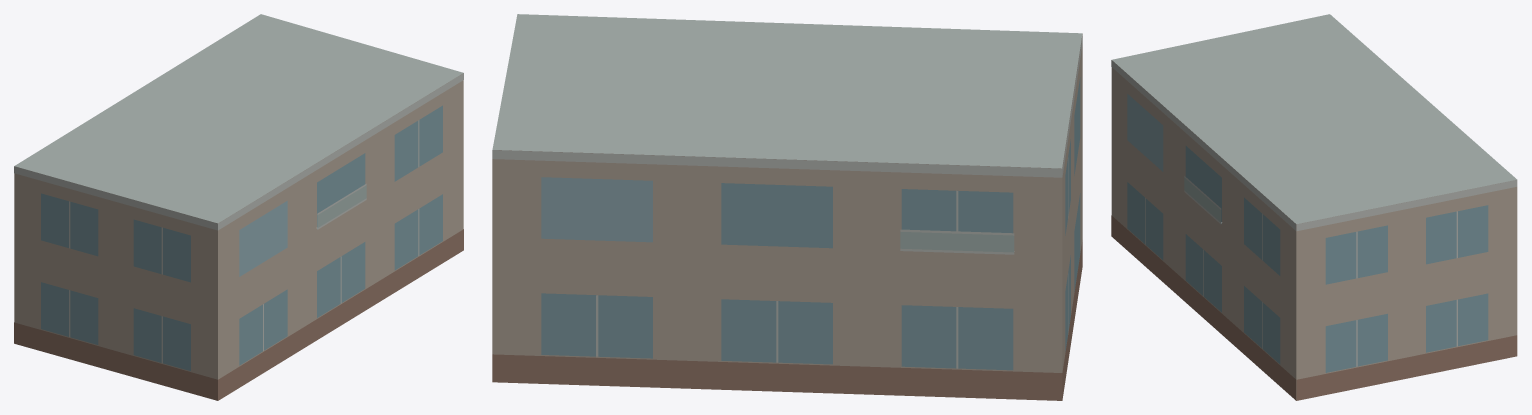
Rendered from survey-upis-32747004.glb.
3 renders of one model, left to right at view 1: azimuth 30°, elevation 25°; view 2: azimuth 150°, elevation 25°; view 3: azimuth 270°, elevation 25°, orthographic. The views are drawn at different scales.
Parts seen in each view (by area): view 1: survey-upis-32747004.tmp; view 2: survey-upis-32747004.tmp; view 3: survey-upis-32747004.tmp.
Part boxes in pixels (bbox=[...]): survey-upis-32747004.tmp: bbox=[14, 14, 463, 400]; survey-upis-32747004.tmp: bbox=[492, 14, 1082, 400]; survey-upis-32747004.tmp: bbox=[1111, 14, 1517, 400].
Size of the model in its own units: 15.58 by 6.1 by 12.71.
